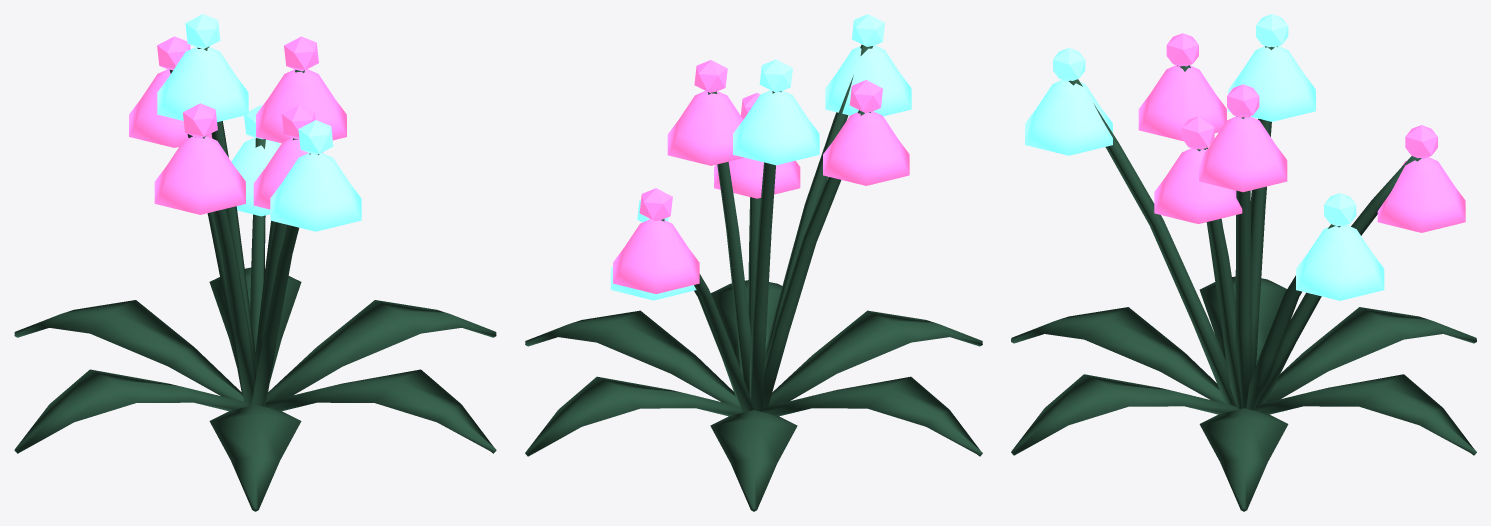
Rendered from bunga_glow.glb.
The picture shows the model from 3 angles, left to right: view 1: azimuth 30°, elevation 25°; view 2: azimuth 150°, elevation 25°; view 3: azimuth 270°, elevation 25°; orthographic projection. The views are drawn at different scales.
Parts seen in each view (by area): view 1: bunga_glow_mesh; view 2: bunga_glow_mesh; view 3: bunga_glow_mesh.
Part boxes in pixels (box(x1,y1,x2,y2)): bunga_glow_mesh: box(14, 14, 496, 511); bunga_glow_mesh: box(525, 14, 982, 511); bunga_glow_mesh: box(1011, 14, 1476, 511).
Size of the model in its own units: 0.845 by 0.6895 by 0.7325.
